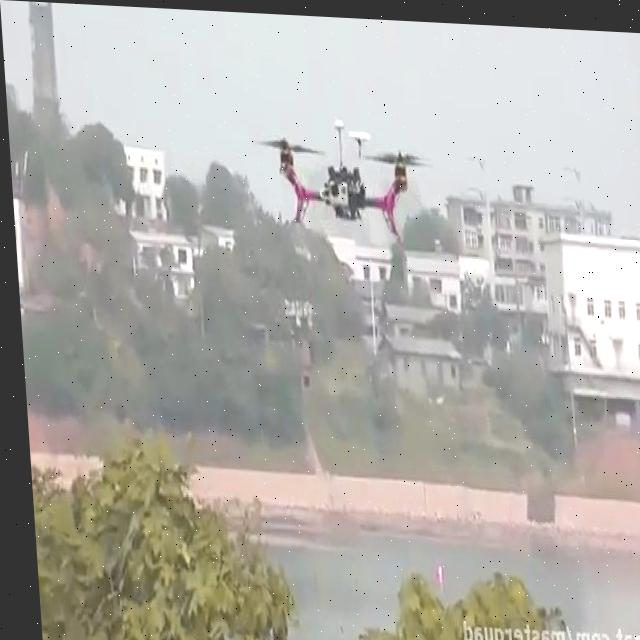drone: (245, 108, 440, 239)
